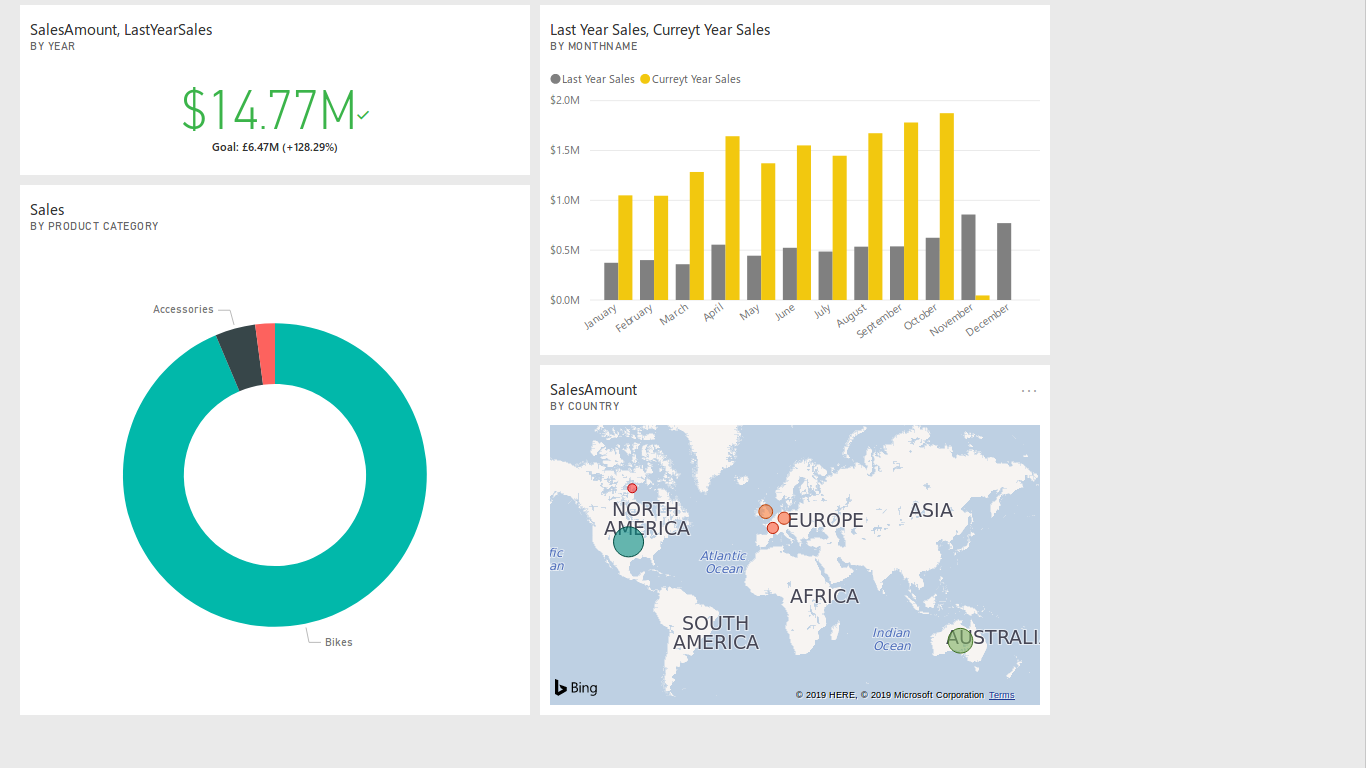

The dashboard page shown, as its layout file describes it:
{"tool":"powerbi","page":{"name":"Sales by Year","canvas":[1280,720],"ordinal":0},"visuals":[{"type":"map","fields":{"Size":["Sum(Sales.SalesAmount)"],"Category":["SalesTerritory.Country"]},"box":[787,384.8,481.9,329.1],"z":8},{"type":"pieChart","fields":{"Category":["SalesTerritory.Country"],"Y":["Sum(Sales.Freight)"]},"box":[379.1,384.8,368.7,325],"z":9},{"type":"kpi","title":"Sales and Last Year Sales by Year","fields":{"Indicator":["Sum(Sales.SalesAmount)"],"Goal":["Sales.LastYearSales"],"TrendLine":["Date.Year"]},"box":[10.4,101.7,230,146.8],"z":10},{"type":"lineClusteredColumnComboChart","fields":{"Category":["Date.MonthName"],"Y":["Sum(Sales.SalesAmount)","Sales.Sales_YTD"],"Y2":["Sales.Sales_YTD"]},"box":[261.2,101.7,503.9,267],"z":1000},{"type":"slicer","fields":{"Values":["Date.Year"]},"box":[1009.2,6.5,260,84.4],"z":2000},{"type":"donutChart","fields":{"Category":["ProductCategory.EnglishProductCategoryName","ProductSubcategory.EnglishProductSubcategoryName","Product.EnglishProductName"],"Y":["Sum(Sales.SalesAmount)"]},"box":[10.4,384.8,329.4,324.1],"z":3000},{"type":"clusteredColumnChart","fields":{"Y":["Sales.LastYearSameMonthSales","Sum(Sales.SalesAmount)"],"Category":["Date.MonthName"]},"box":[783.7,101.7,479.7,268],"z":4000},{"type":"textbox","box":[10.4,6.5,331.7,52],"z":7000}]}

Visuals, with their boxes in screenshot pixels (x1, y1, x2, y2), scaled from the page's 1280x720 canvas onto the 1366x768 screenshot:
map - Sum(Sales.SalesAmount) x SalesTerritory.Country: [x1=840, y1=410, x2=1354, y2=761]
pieChart - SalesTerritory.Country x Sum(Sales.Freight): [x1=405, y1=410, x2=798, y2=757]
"Sales and Last Year Sales by Year" kpi: [x1=11, y1=108, x2=257, y2=265]
lineClusteredColumnComboChart - Date.MonthName x Sum(Sales.SalesAmount): [x1=279, y1=108, x2=817, y2=393]
slicer - Date.Year: [x1=1077, y1=7, x2=1354, y2=97]
donutChart - ProductCategory.EnglishProductCategoryName x ProductSubcategory.EnglishProductSubcategoryName: [x1=11, y1=410, x2=363, y2=756]
clusteredColumnChart - Sales.LastYearSameMonthSales x Sum(Sales.SalesAmount): [x1=836, y1=108, x2=1348, y2=394]
textbox: [x1=11, y1=7, x2=365, y2=62]
